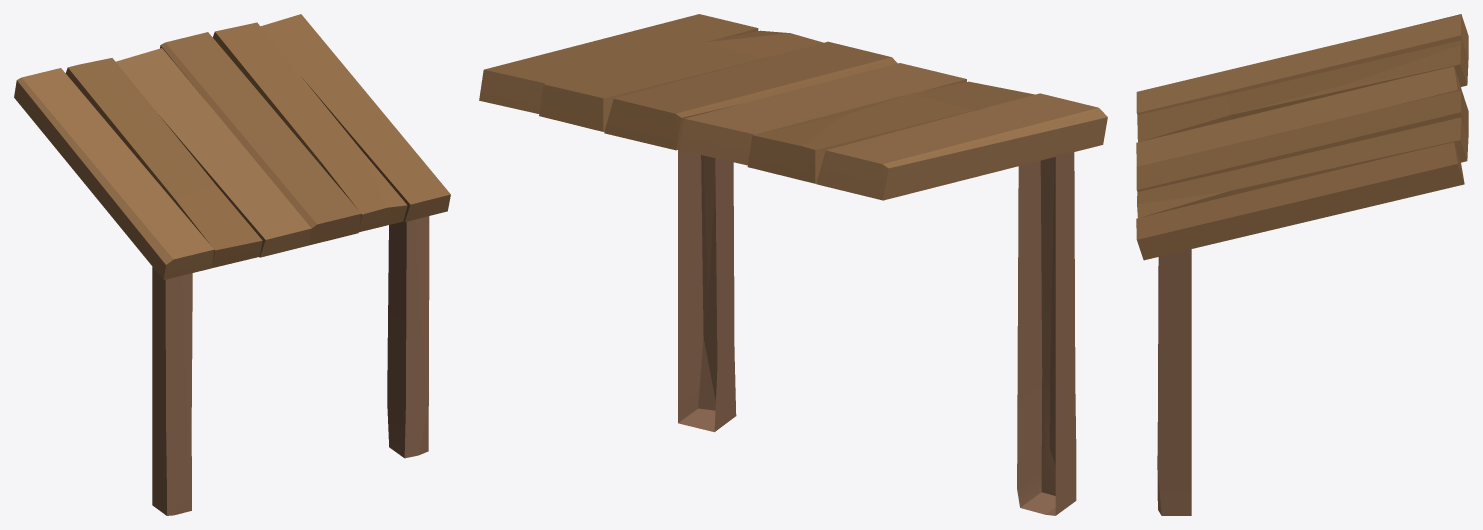
Rendered from House_Gate_Part_B.fbx.
3 views of the same model, side by side, from view 1: azimuth 30°, elevation 25°; view 2: azimuth 150°, elevation 25°; view 3: azimuth 270°, elevation 25° (orthographic). The views are drawn at different scales.
Visible parts, largest first — view 1: House_Gate_Part_B; view 2: House_Gate_Part_B; view 3: House_Gate_Part_B.
Part boxes in pixels (x1,y1,x2,y2): House_Gate_Part_B: (14, 14, 450, 515); House_Gate_Part_B: (479, 14, 1107, 515); House_Gate_Part_B: (1136, 14, 1468, 515).
Size of the model in its own units: 186 by 211 by 176.
